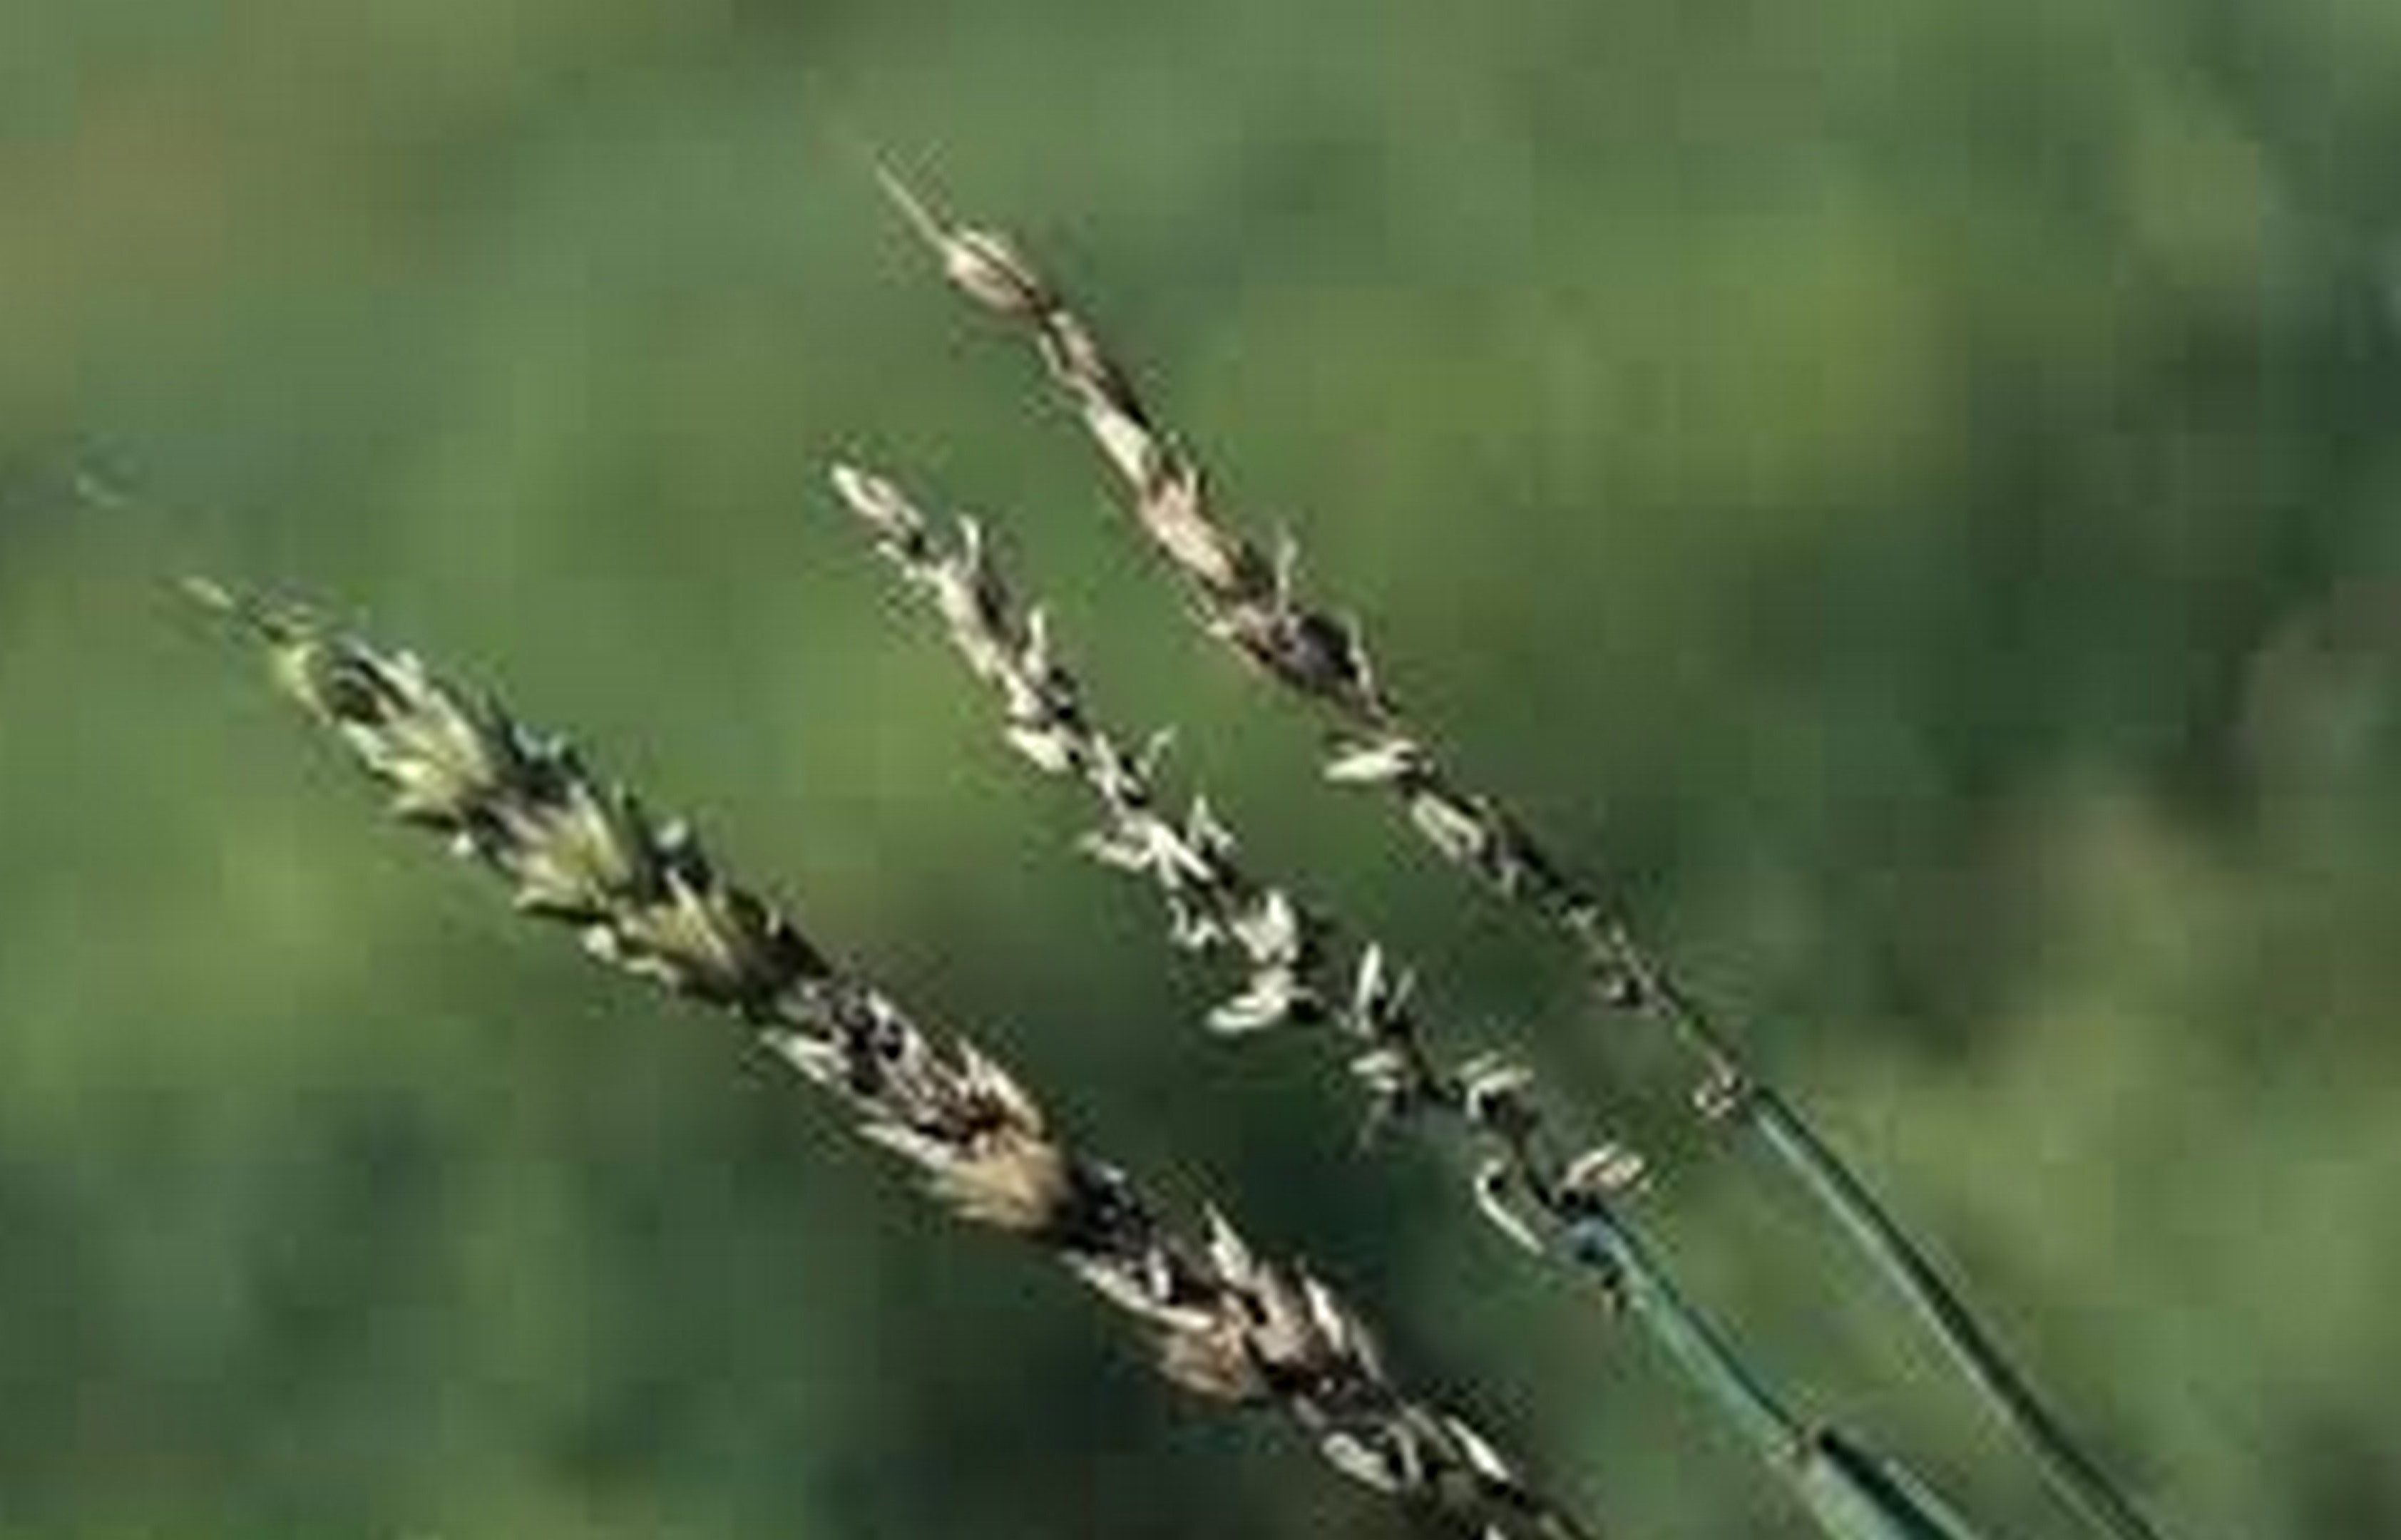Wheat Loose Smut: (311, 439, 1673, 1489)
